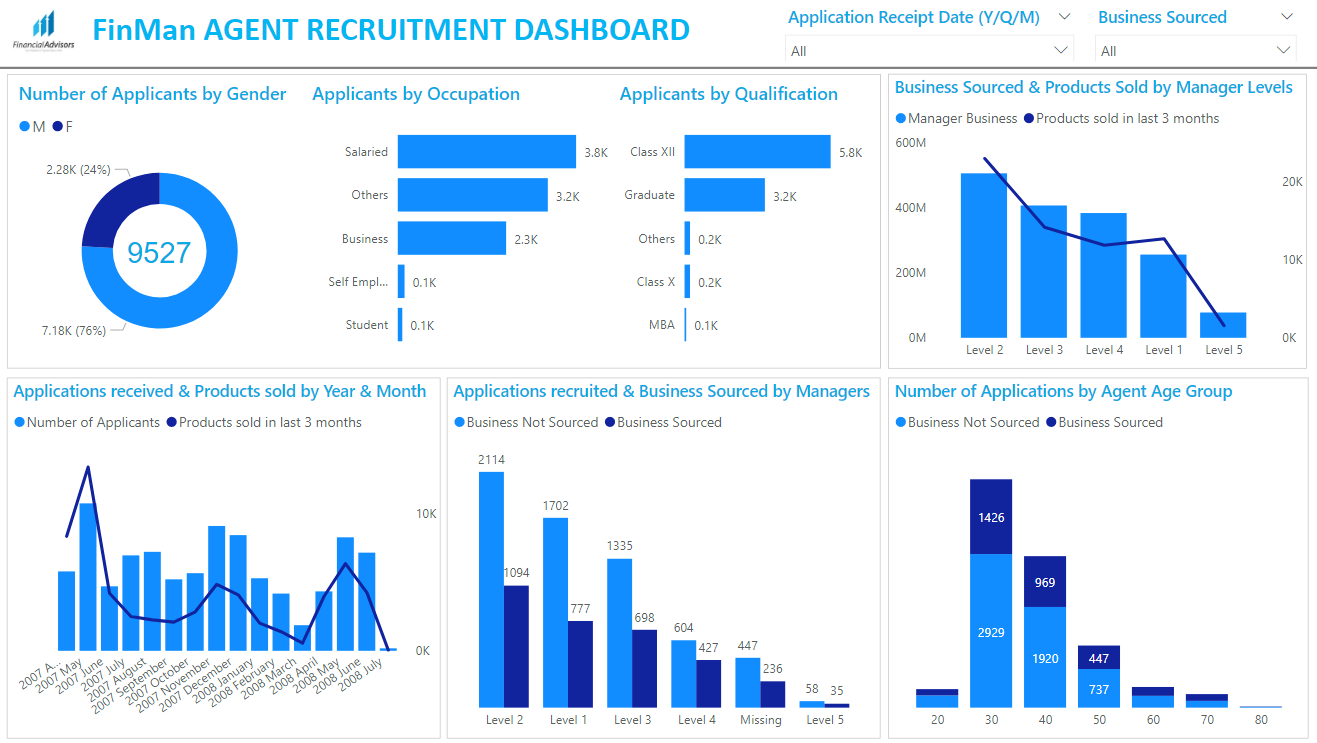

This screenshot's page, from the dashboard's own definition file:
{"tool":"powerbi","page":{"name":"Overview Dashboard","canvas":[1280,720],"ordinal":0},"visuals":[{"type":"shape","box":[8,71.8,846.1,285.8],"z":0},{"type":"textbox","box":[86.2,3.2,633.8,52.7],"z":1000},{"type":"shape","box":[0,59.1,1280,12.8],"z":2000},{"type":"lineClusteredColumnComboChart","title":"Business Sourced & Products Sold by Manager Levels","fields":{"Y":["Sum(past_recruit_data.Manager_Business)"],"Y2":["Sum(past_recruit_data.Manager_Num_Products)"],"Category":["past_recruit_data.Manager_Current_Designation"]},"box":[862.1,71.8,405.5,285.8],"z":3000},{"type":"donutChart","title":"Number of Applicants by Gender","fields":{"Y":["CountNonNull(past_recruit_data.ID)"],"Category":["past_recruit_data.Applicant_Gender"]},"box":[14.4,78.2,284.2,274.6],"z":4000},{"type":"columnChart","title":"Number of Applications by Agent Age Group","fields":{"Category":["past_recruit_data.Agent_Age_Grp"],"Y":["CountNonNull(past_recruit_data.ID)"],"Series":["past_recruit_data.Business_Sourced_Desc"]},"box":[862.1,365.6,407.1,349.6],"z":5000},{"type":"clusteredColumnChart","title":"Applications recruited & Business Sourced by Managers","fields":{"Category":["past_recruit_data.Manager_Current_Designation"],"Y":["CountNonNull(past_recruit_data.ID)"],"Series":["past_recruit_data.Business Sourced"]},"box":[434.2,365.6,419.9,349.6],"z":6000},{"type":"lineStackedColumnComboChart","title":"Applications received & Products sold by Year & Month","fields":{"Y":["CountNonNull(past_recruit_data.ID)"],"Y2":["Sum(past_recruit_data.Manager # Products)"],"Category":["past_recruit_data.Application_Receipt_Date.Variation.Date Hierarchy.Year","past_recruit_data.Application_Receipt_Date.Variation.Date Hierarchy.Month"]},"box":[8,365.6,419.9,349.6],"z":7000},{"type":"card","fields":{"Values":["past_recruit_data.Num_Applications"]},"box":[116.5,225.1,79.8,38.3],"z":8000},{"type":"clusteredBarChart","title":"Applicants by Occupation","fields":{"Category":["past_recruit_data.Applicant Occupation"],"Y":["CountNonNull(past_recruit_data.ID)"]},"box":[298.5,78.2,298.5,274.6],"z":9000},{"type":"clusteredBarChart","title":"Applicants by Qualification","fields":{"Category":["past_recruit_data.Applicant Qualification"],"Y":["CountNonNull(past_recruit_data.ID)"]},"box":[597.1,78.2,245.9,274.6],"z":10000},{"type":"image","box":[0,1.6,89.4,57.5],"z":11000},{"type":"slicer","fields":{"Values":["past_recruit_data.Business Sourced"]},"box":[1052.1,0,215.5,59.1],"z":12000},{"type":"slicer","fields":{"Values":["past_recruit_data.Application_Receipt_Date.Variation.Date Hierarchy.Year","past_recruit_data.Application_Receipt_Date.Variation.Date Hierarchy.Quarter","past_recruit_data.Application_Receipt_Date.Variation.Date Hierarchy.Month"]},"box":[751.9,0,300.1,59.1],"z":13000}]}

Visuals, with their boxes in screenshot pixels (x1, y1, x2, y2), scaled from the page's 1280x720 canvas onto the 1317x743 screenshot:
shape: (8,74,879,369)
textbox: (89,3,741,58)
shape: (0,61,1316,74)
"Business Sourced & Products Sold by Manager Levels" lineClusteredColumnComboChart: (887,74,1304,369)
"Number of Applicants by Gender" donutChart: (15,81,307,364)
"Number of Applications by Agent Age Group" columnChart: (887,377,1306,738)
"Applications recruited & Business Sourced by Managers" clusteredColumnChart: (447,377,879,738)
"Applications received & Products sold by Year & Month" lineStackedColumnComboChart: (8,377,440,738)
card - past_recruit_data.Num_Applications: (120,232,202,272)
"Applicants by Occupation" clusteredBarChart: (307,81,614,364)
"Applicants by Qualification" clusteredBarChart: (614,81,867,364)
image: (0,2,92,61)
slicer - past_recruit_data.Business Sourced: (1083,0,1304,61)
slicer - past_recruit_data.Application_Receipt_Date.Variation.Date Hierarchy.Year x past_recruit_data.Application_Receipt_Date.Variation.Date Hierarchy.Quarter: (774,0,1082,61)
